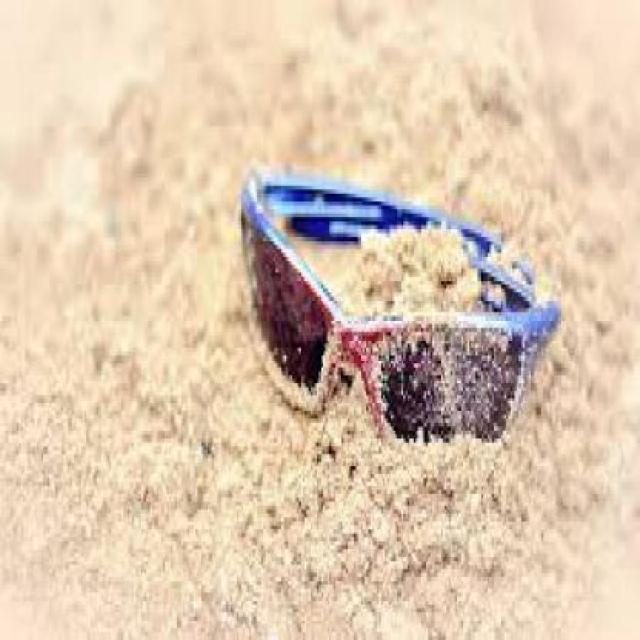gozluk: (232, 166, 550, 403)
